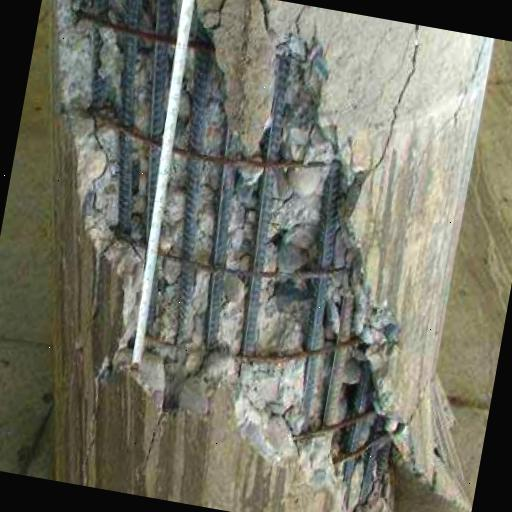spalling: (61, 0, 406, 512)
